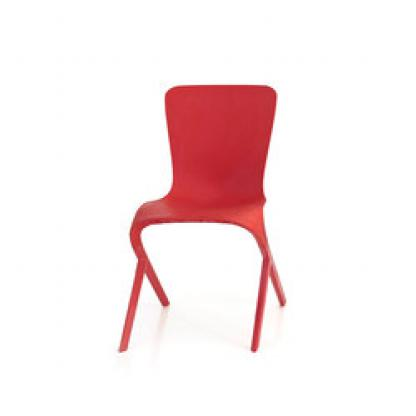chair: (115, 81, 287, 356)
